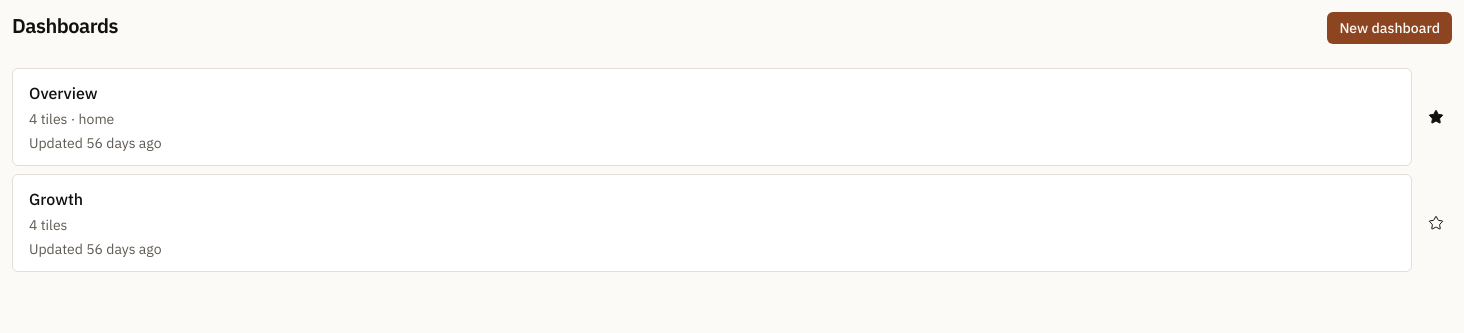
Test case: Dashboards — the home star › says so and leaves both stars alone when the PATCH fails
Click the button named "Set \"Growth\" as home dashboard": (1436, 223) [1420, 207, 1452, 239]
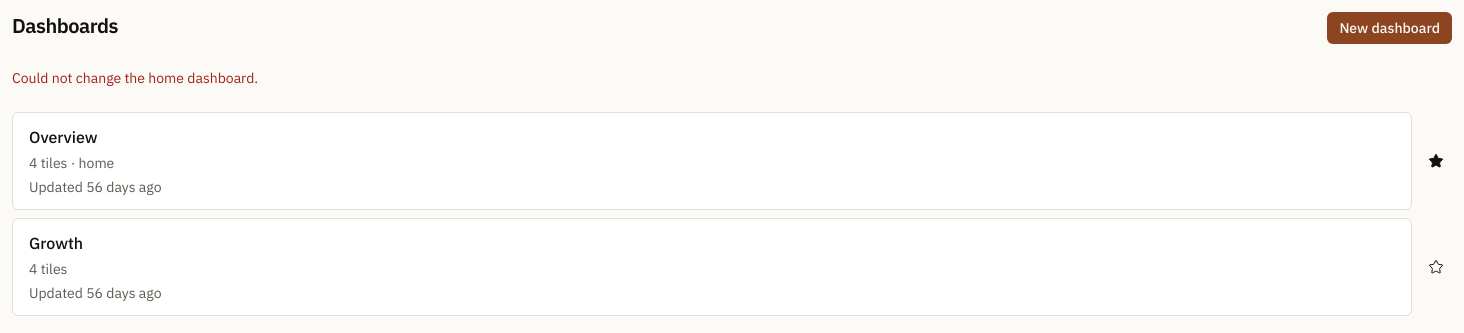
Expected: the button named "\"Overview\" is the home dashboard — click to unset" is shown, [1420, 145, 1452, 177]
Now the message shows "Could not change the home dashboard", box [12, 69, 258, 87]
